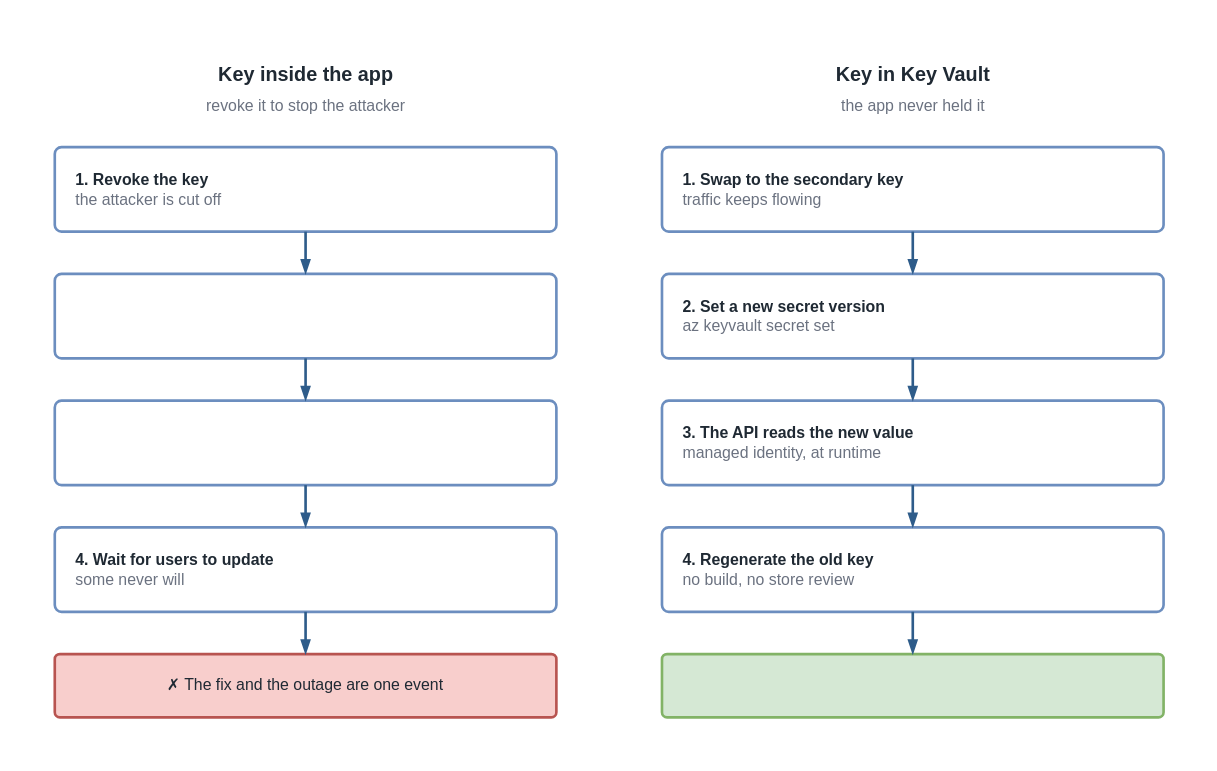
The diagram is 1217 pixels wide and 771 high, and some of its shapes have lost their labels. The shapes that lost their labels are listed below. From the top down, each one's box as (x1, y1, x2, y2) in pixels, then its label:
(53, 272, 557, 359): 2. Every installed copy fails at the same second
(53, 399, 557, 486): 3. Fix needs a new build submit, review, release
(660, 652, 1164, 718): ✓ Rotated in minutes, nobody notices
